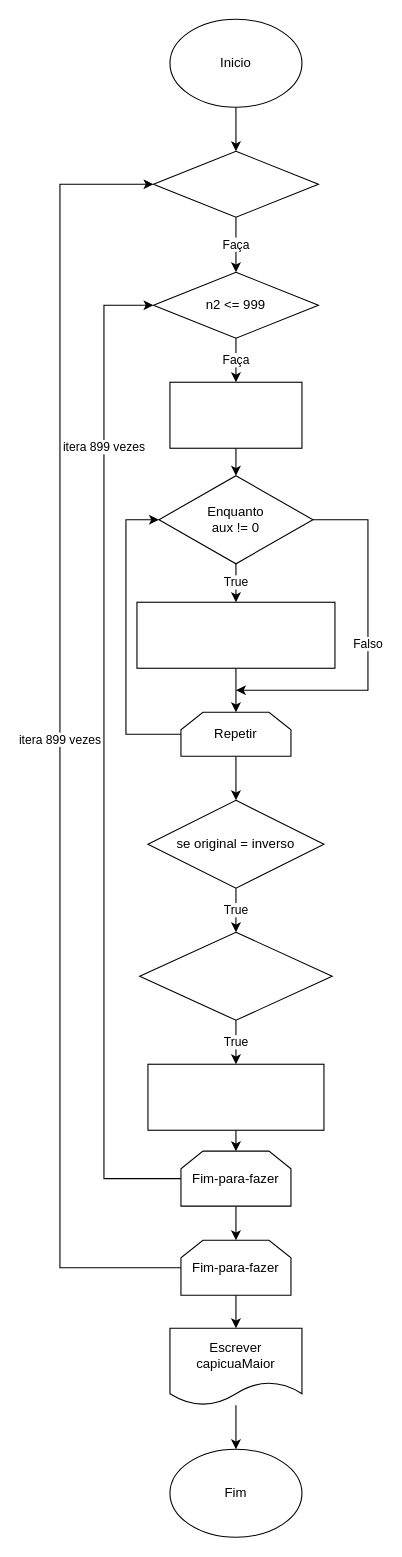
Image size: 402x1557. Some labels were removed from this diagram. Here are the shapes that lost their labels. From the top down, the box of each, then its label:
(152, 150, 318, 217): n1 <= 999
(169, 381, 302, 448): original <- n1 * n2 aux <- original inverso <- 0
(136, 601, 335, 668): temp <- aux % 10 inverso <- (inverso * 10) + temp aux <- aux / 10
(139, 931, 332, 1020): se original > capicuaMaior
(147, 1063, 324, 1130): capicuaMaior <- original
